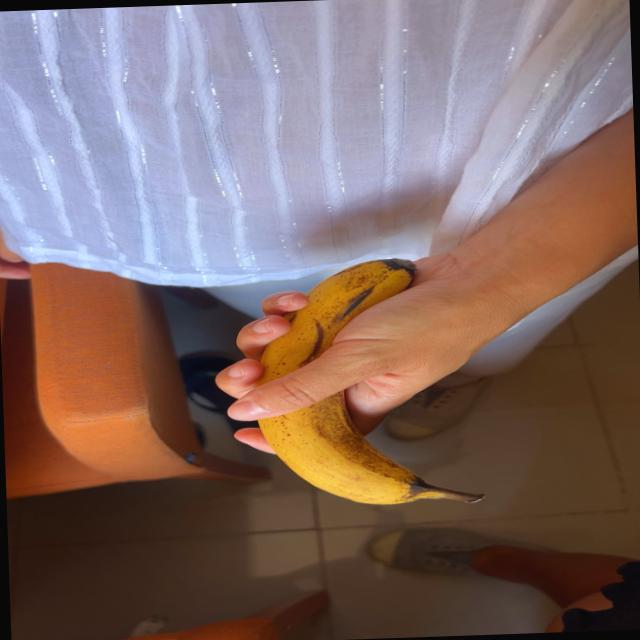bananas: (259, 392, 483, 503), (259, 259, 412, 384)
